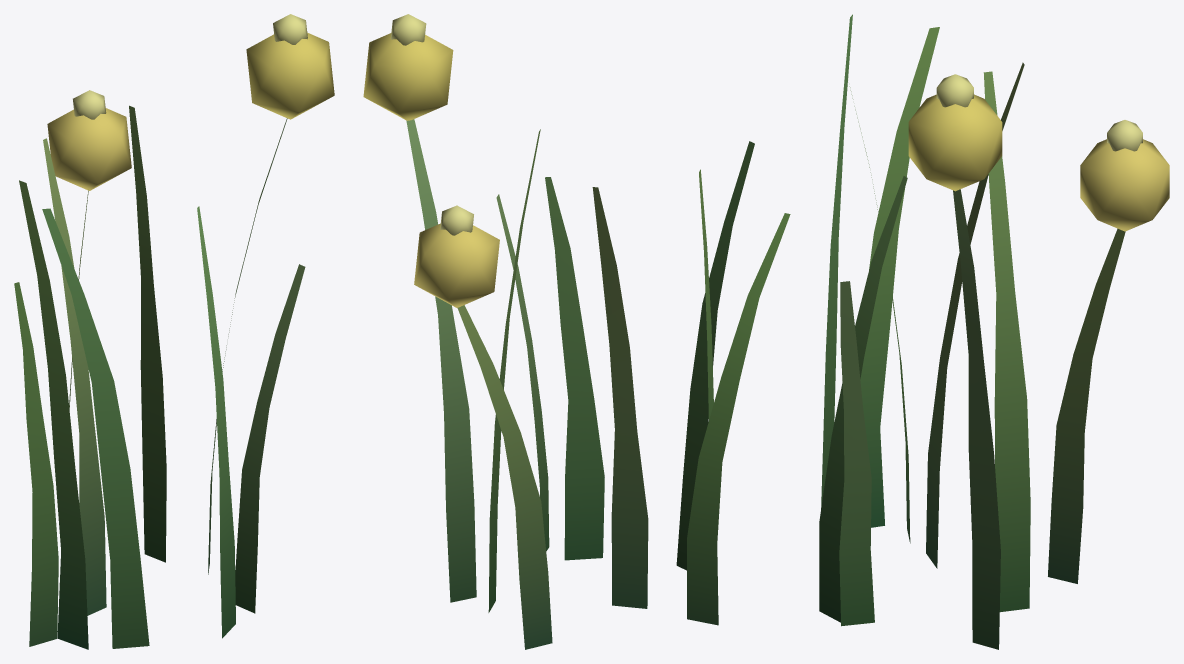
File: env_grass_wildflower_mix_01.glb
The picture shows the model from 3 angles, left to right: view 1: azimuth 30°, elevation 25°; view 2: azimuth 150°, elevation 25°; view 3: azimuth 270°, elevation 25°; orthographic projection. The views are drawn at different scales.
Visible parts, largest first — view 1: grass_wildflower_mix; view 2: grass_wildflower_mix; view 3: grass_wildflower_mix.
Part boxes in pixels (x1,y1,x2,y2): grass_wildflower_mix: [14, 14, 334, 649]; grass_wildflower_mix: [363, 14, 790, 649]; grass_wildflower_mix: [819, 14, 1169, 649].
Bounding box in the file's own units: 0.1609 × 0.2318 × 0.121.
